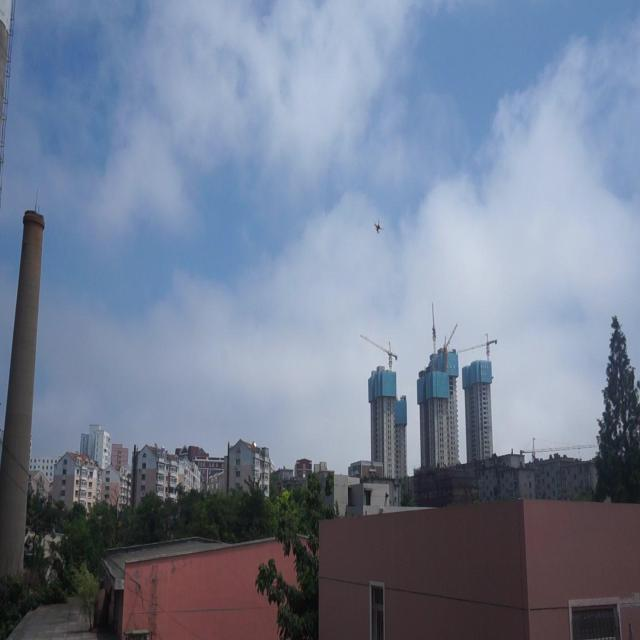drone: (371, 218, 383, 237)
